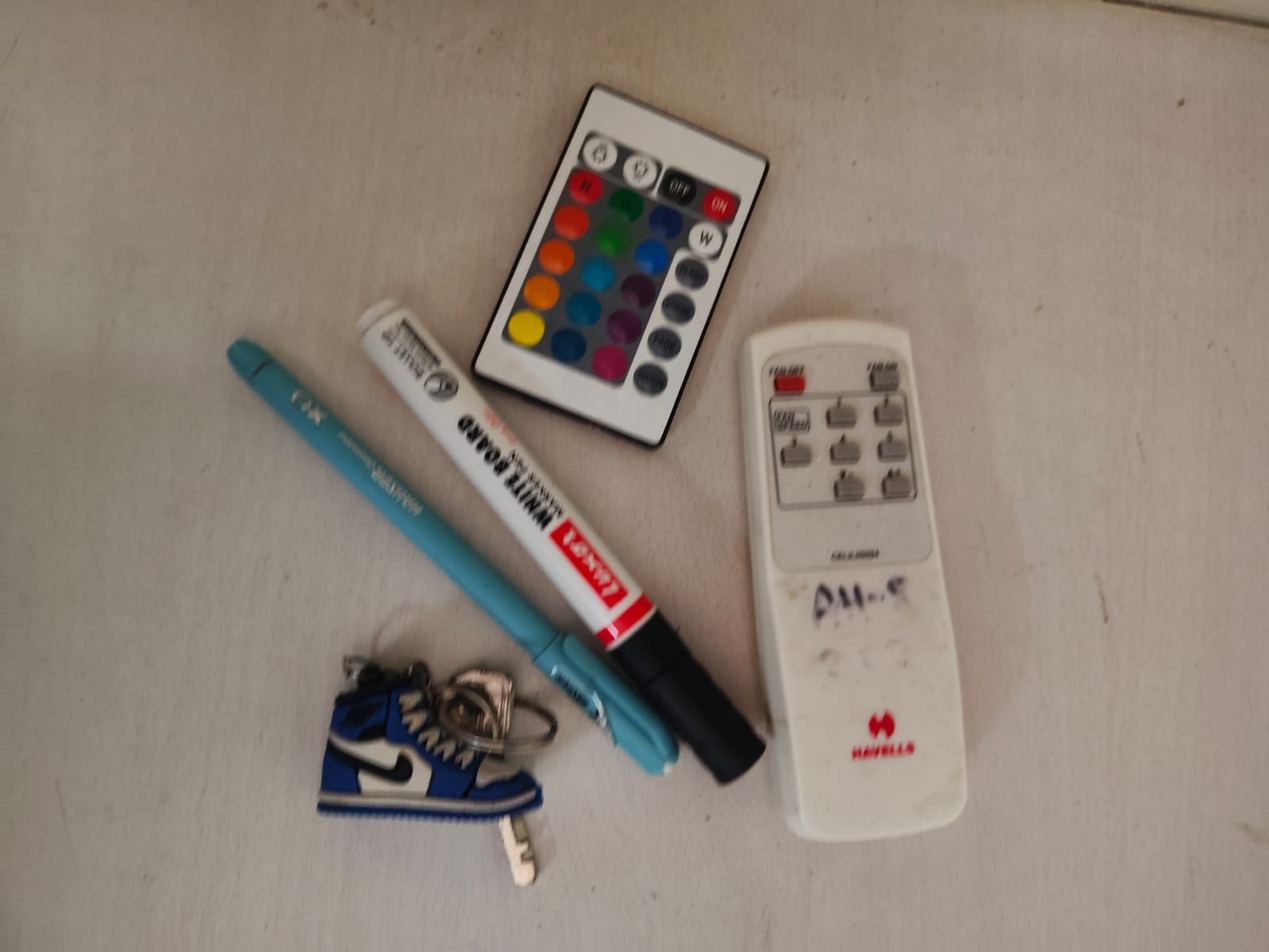case: (355, 275, 782, 790)
pen: (215, 327, 694, 778)
